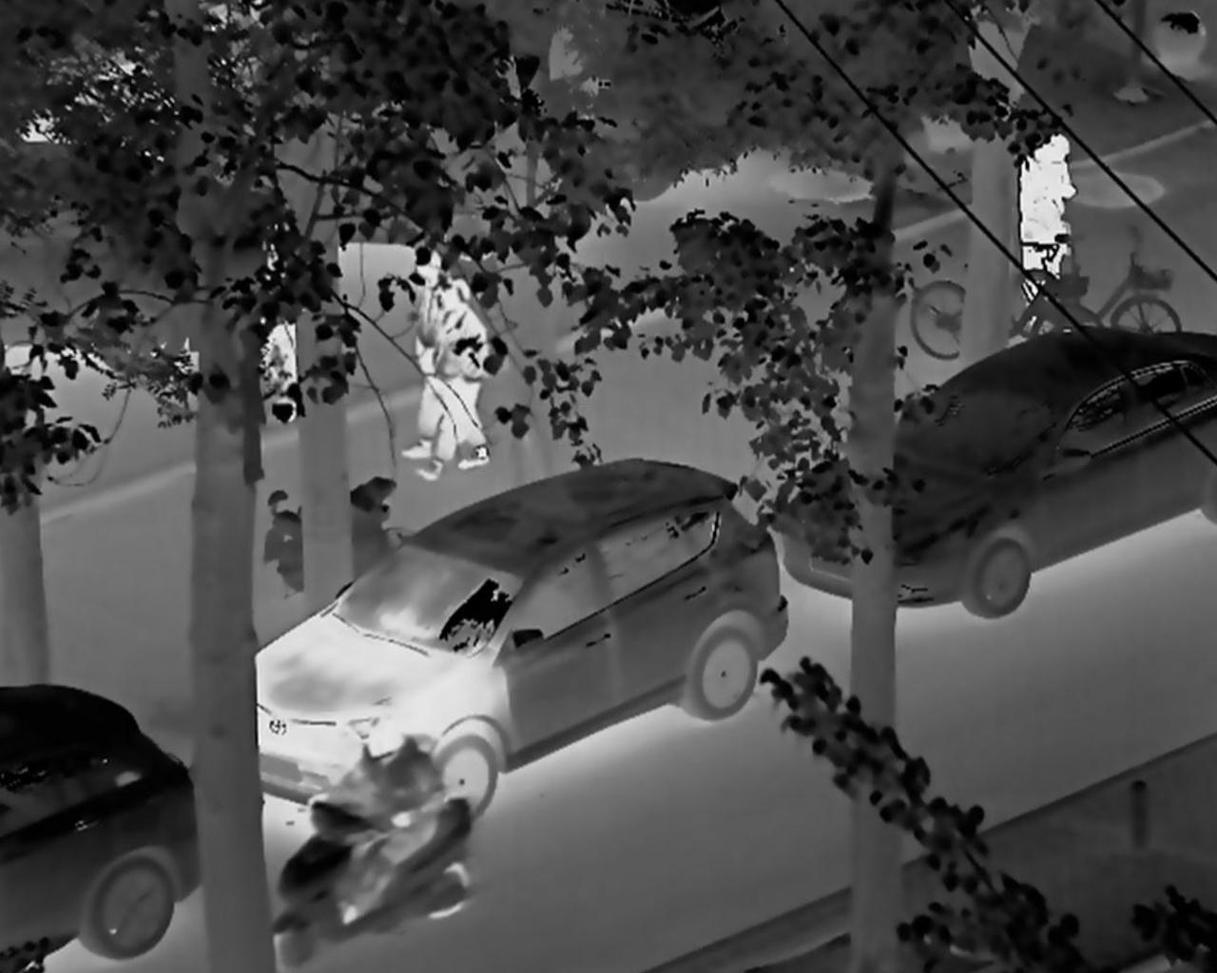person: (326, 717, 445, 936), (395, 247, 466, 469), (433, 276, 499, 485), (1020, 130, 1090, 311)
